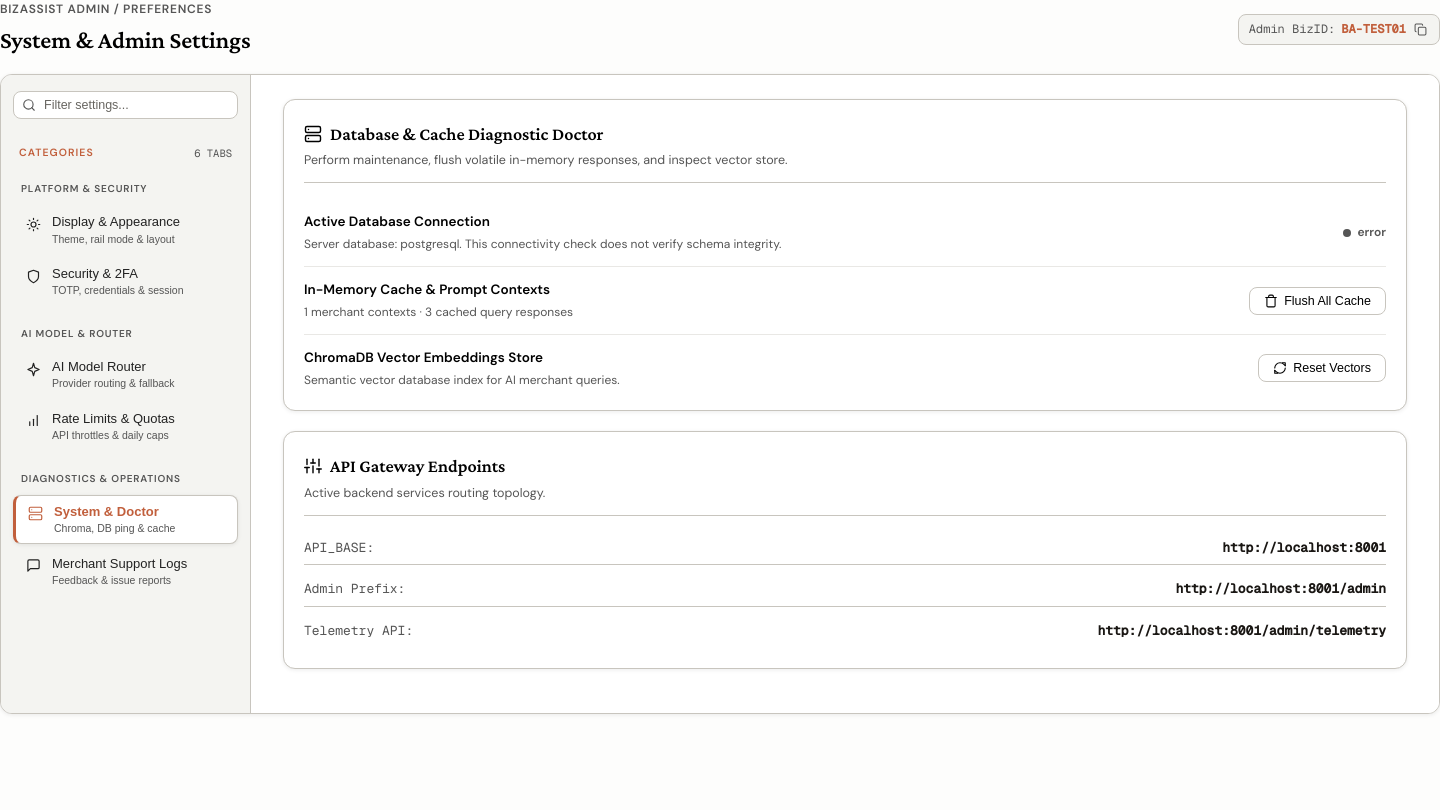
Admin settings API contracts › keeps a system confirmation keyboard-contained and cancels safely with Escape
Expected: the text "Server database: postgresql" is shown, left=304, top=236, right=781, bottom=252
Click the button "Flush All Cache" at (1318, 300), box left=1249, top=286, right=1386, bottom=314
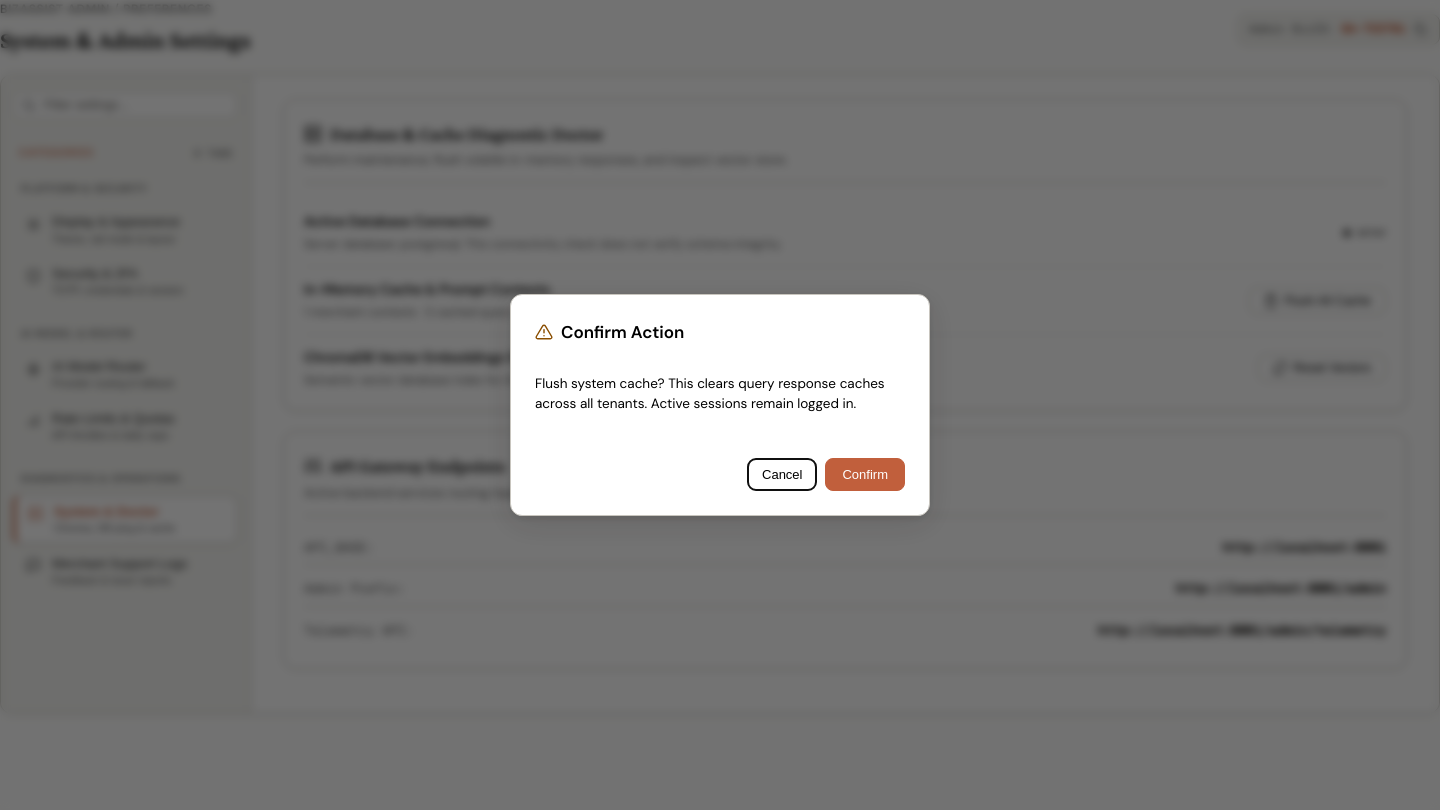
Press Shift+Tab
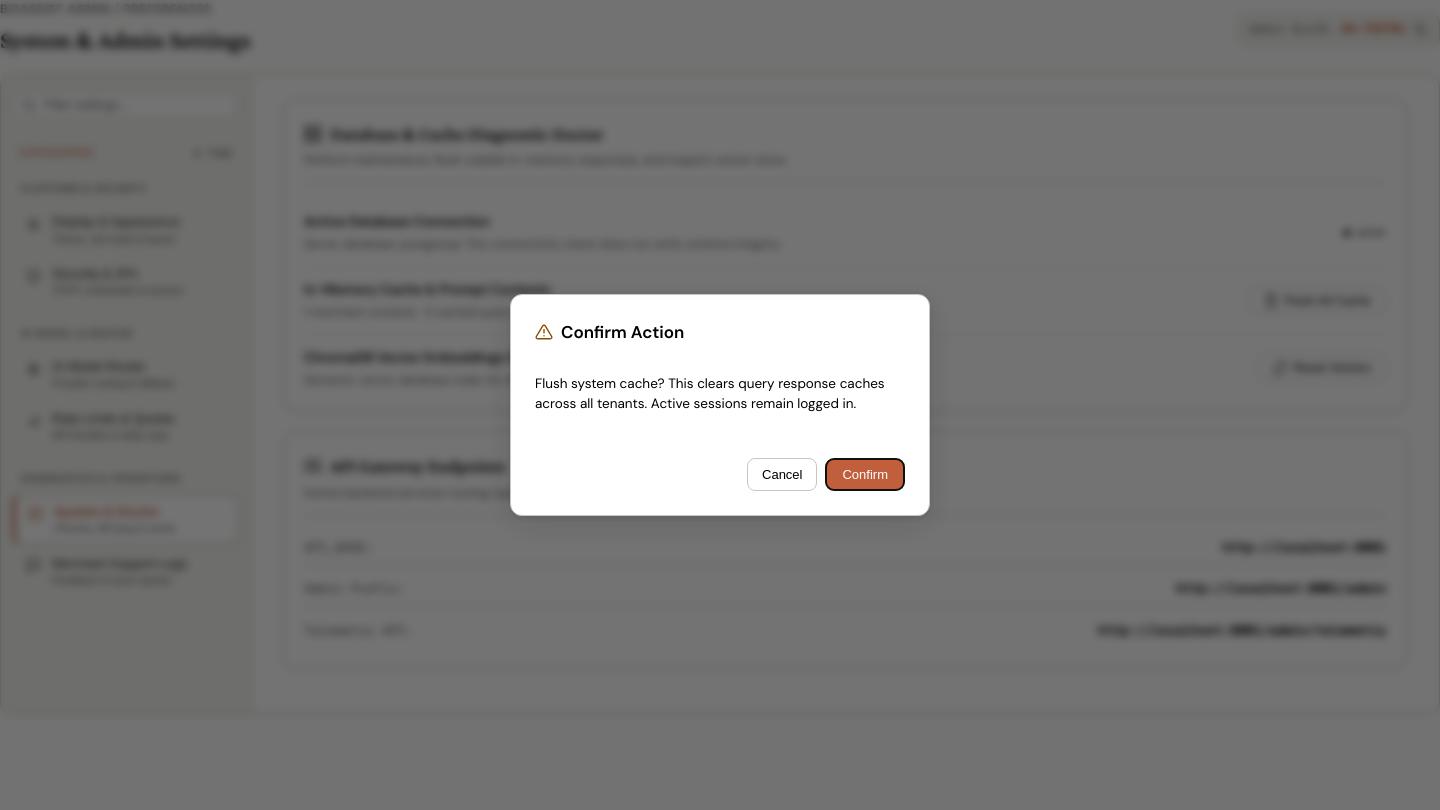
Press Escape
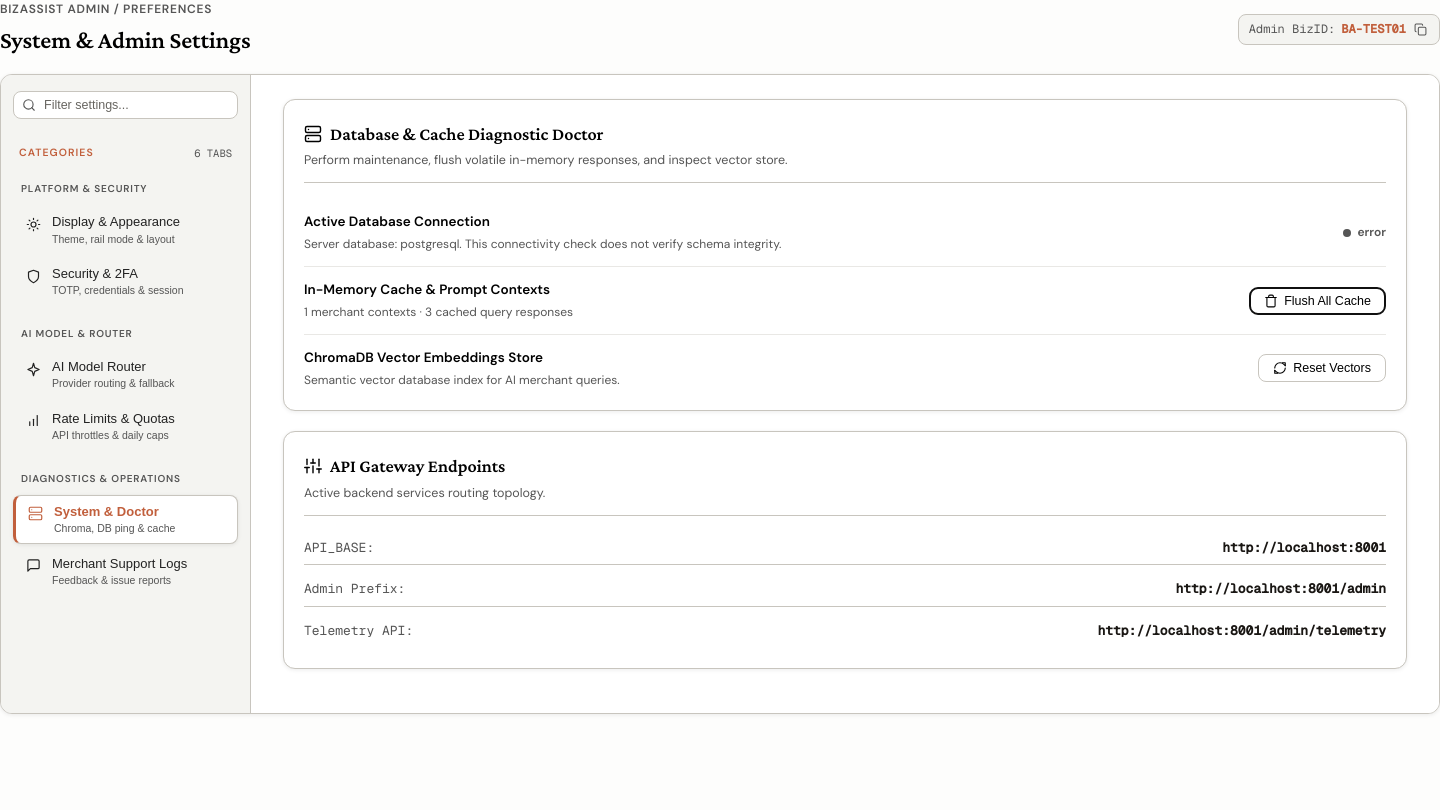
Expected: the dialog is gone
